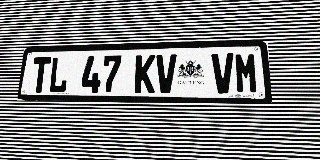4: (81, 56, 102, 93)
7: (100, 55, 122, 93)
K: (134, 55, 156, 93)
L: (48, 57, 69, 93)
M: (234, 52, 259, 94)
T: (30, 57, 51, 93)
V: (211, 53, 235, 94), (155, 54, 177, 93)
